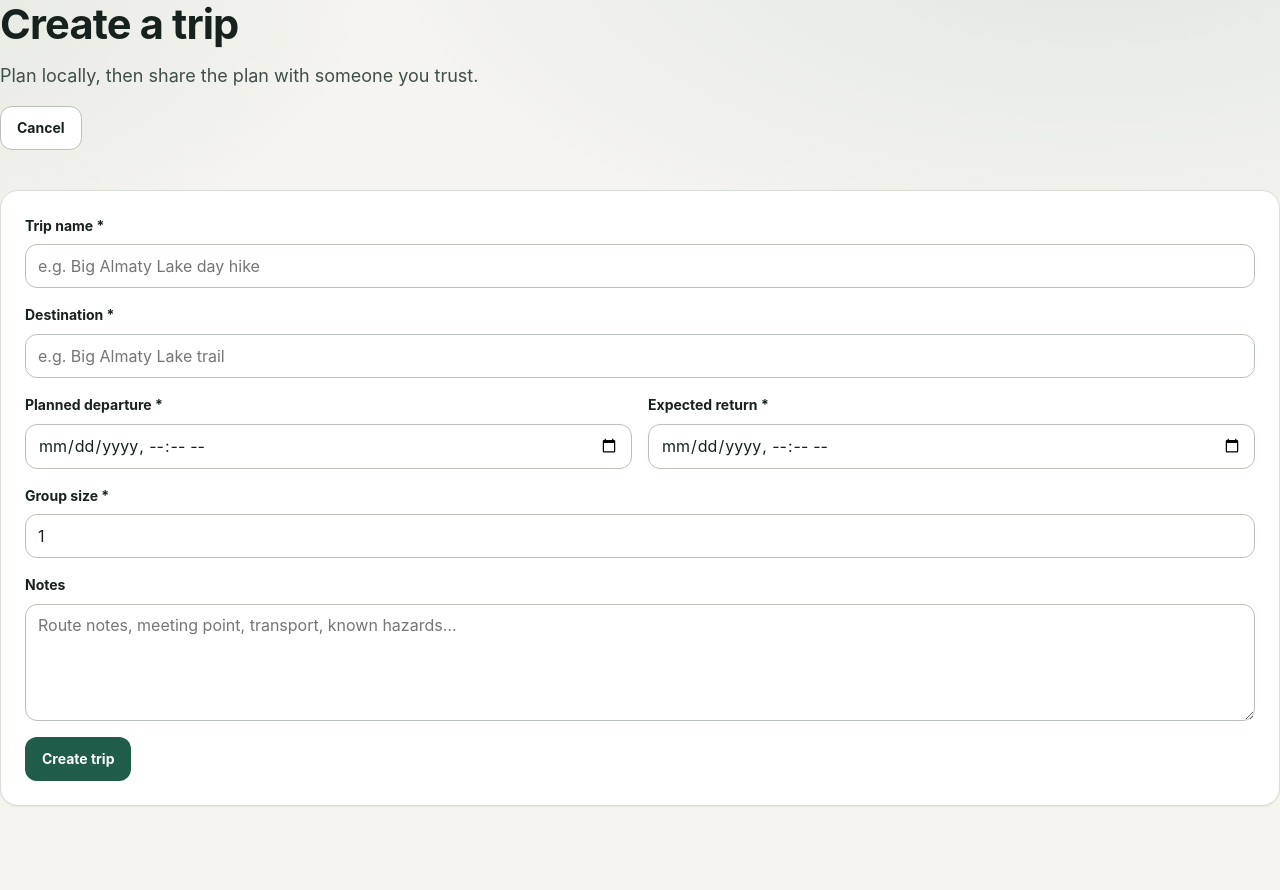
Scenario: TripFormPage › shows validation errors and marks invalid fields
What coordinates should you click on to do the following:
click the button "Create trip"
I would click on:
 (78, 759)
Its box is [25,737,132,781].
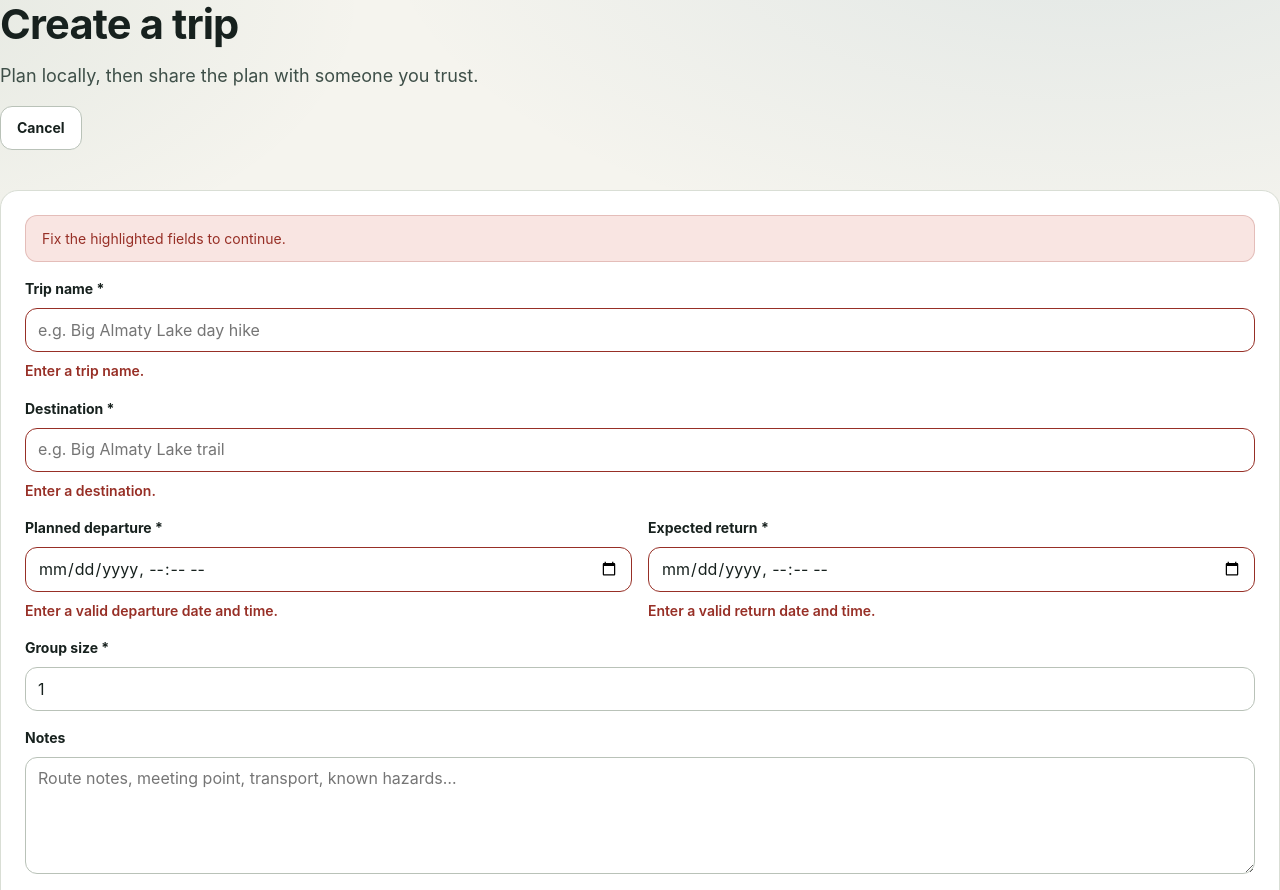
expect the text "Enter a trip name." is shown: met, box [25,362,144,379]
expect the text "Enter a destination." is shown: met, box [25,482,156,498]
expect the text "Enter a valid departure date and time." is shown: met, box [25,602,278,619]
